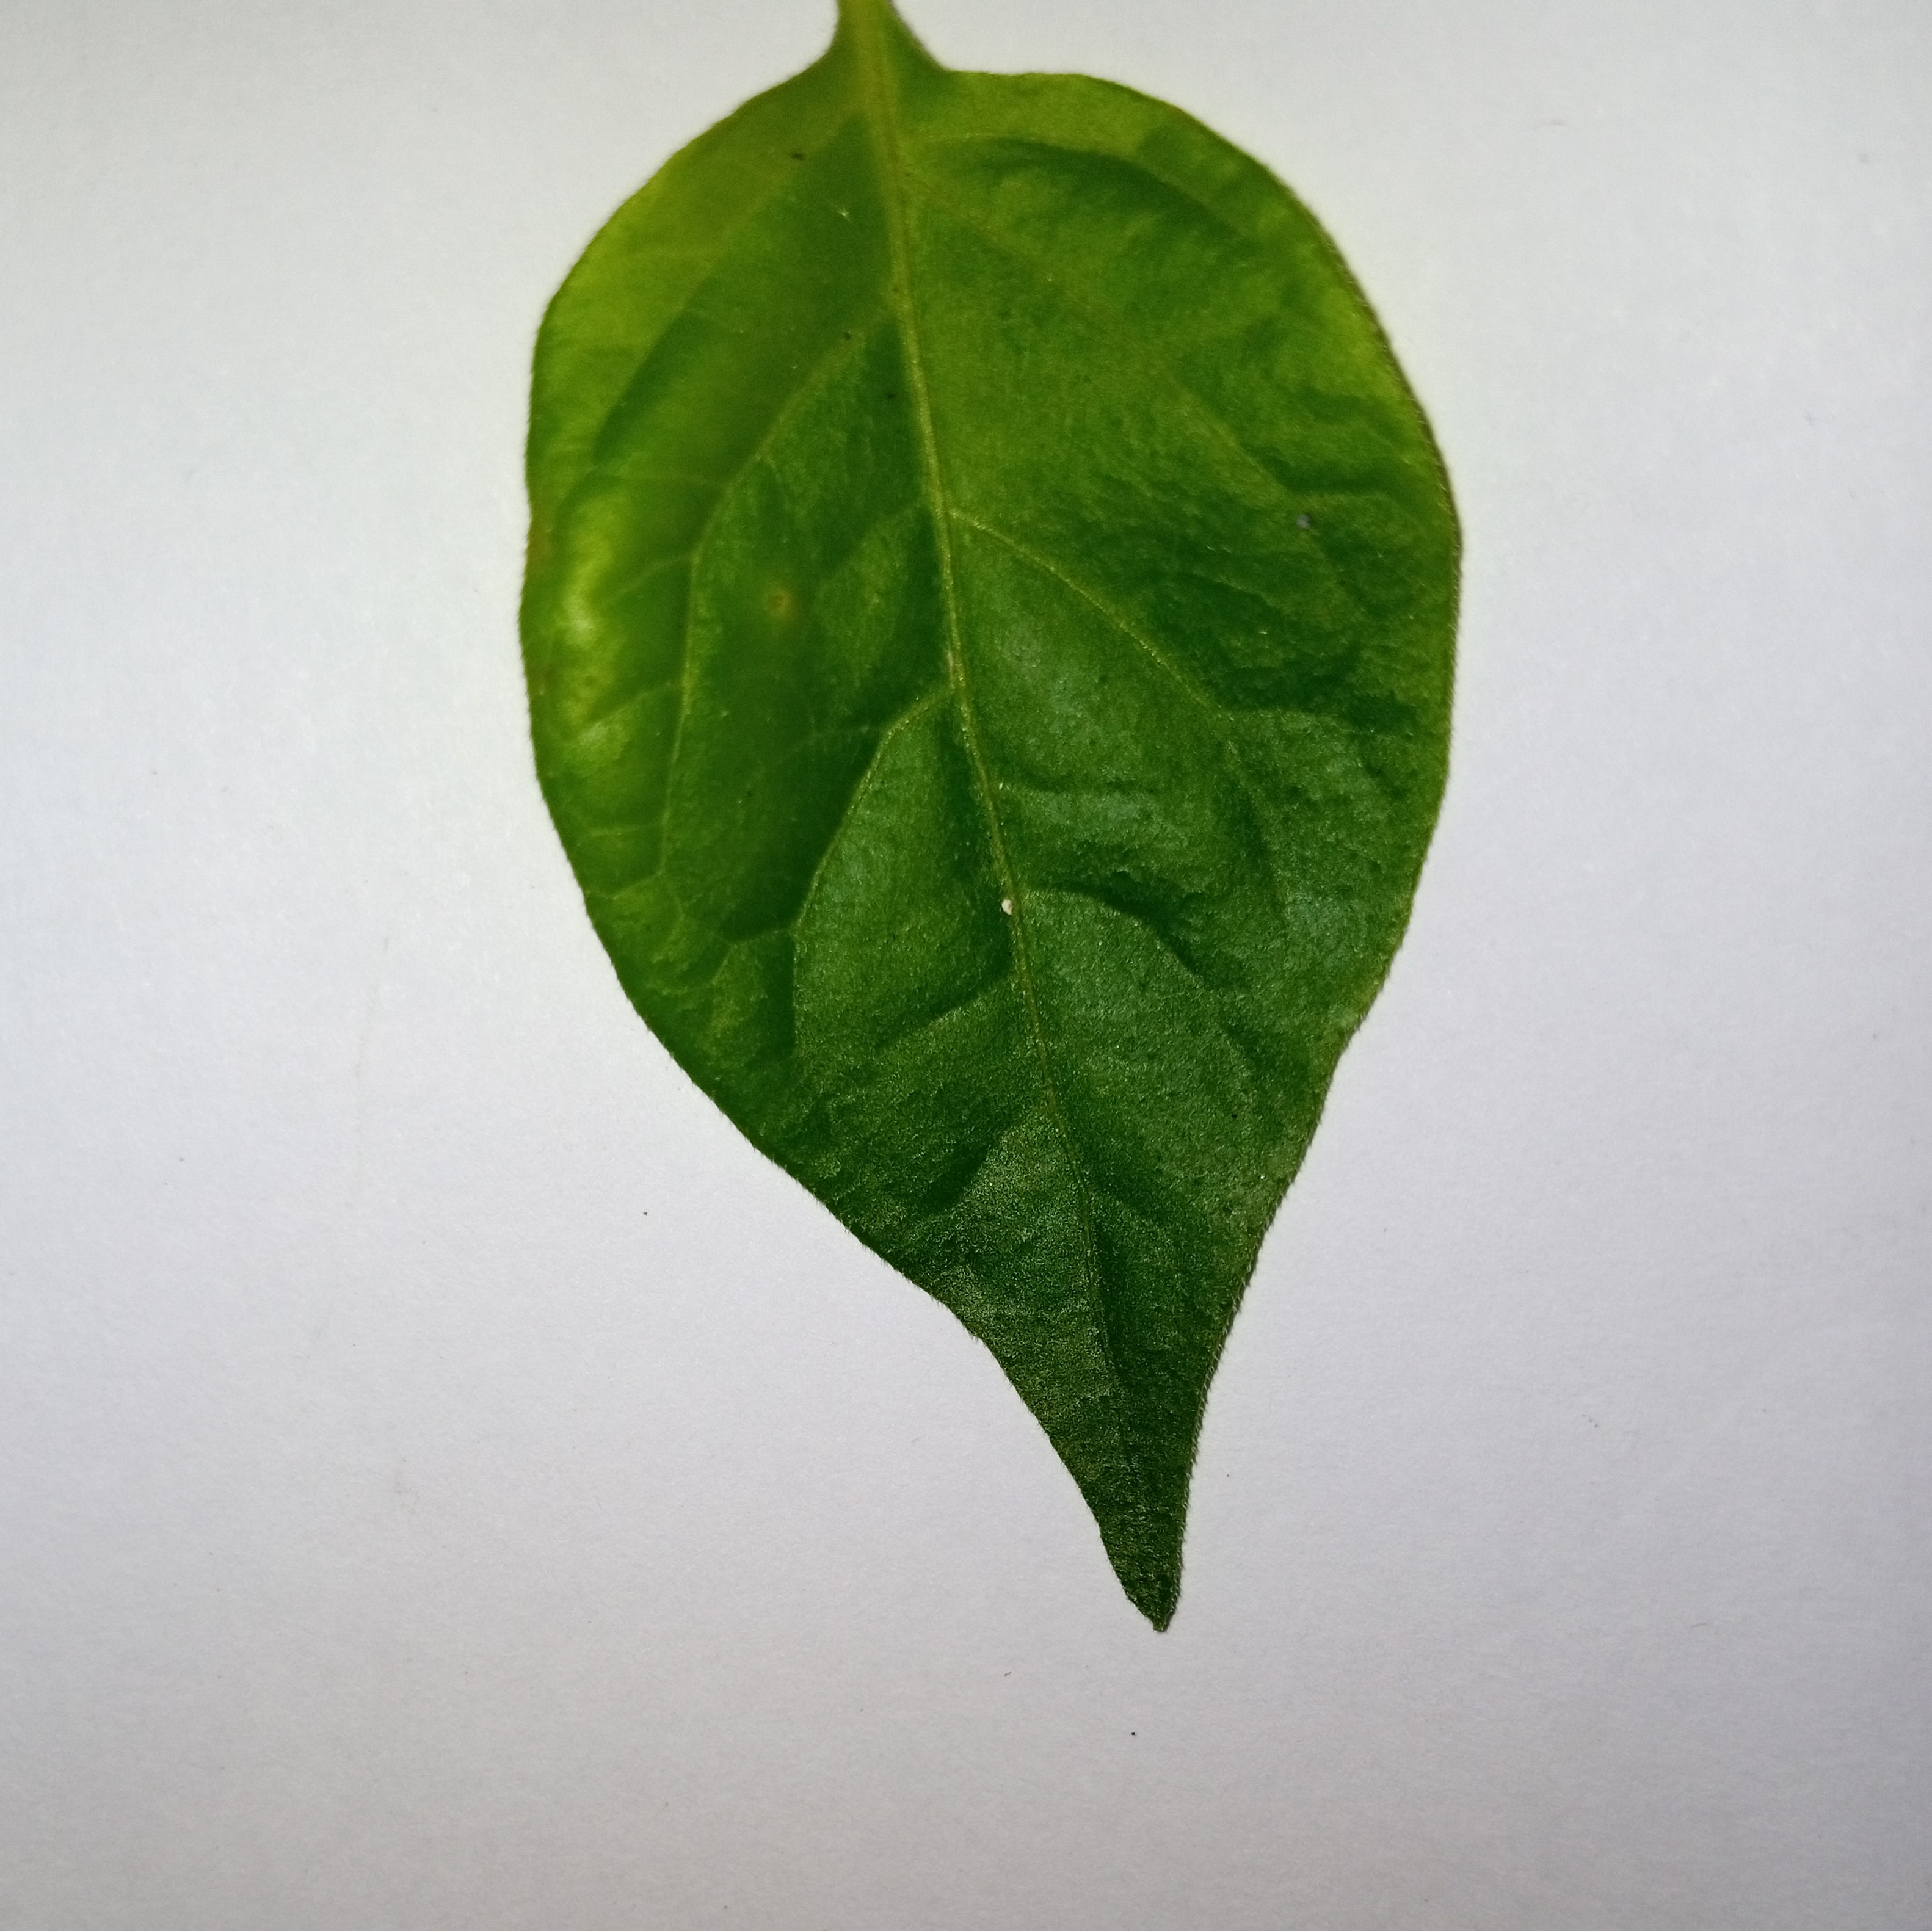Leaf: (347, 32, 1647, 1639)
